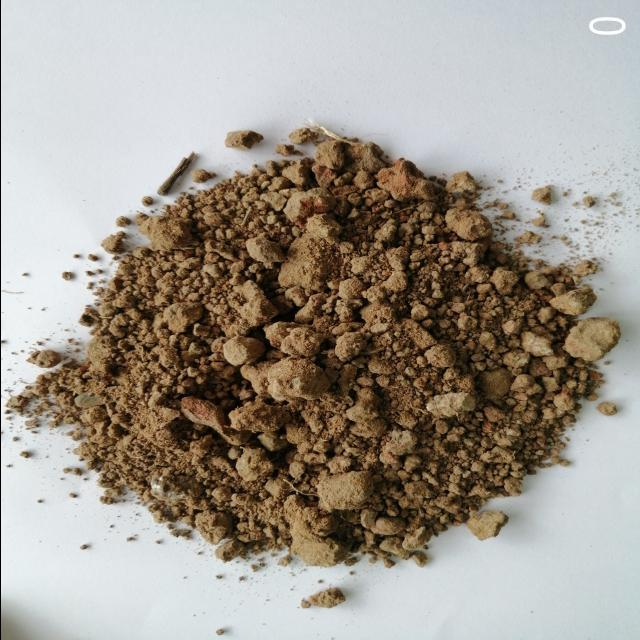soil: (160, 208, 478, 518)
